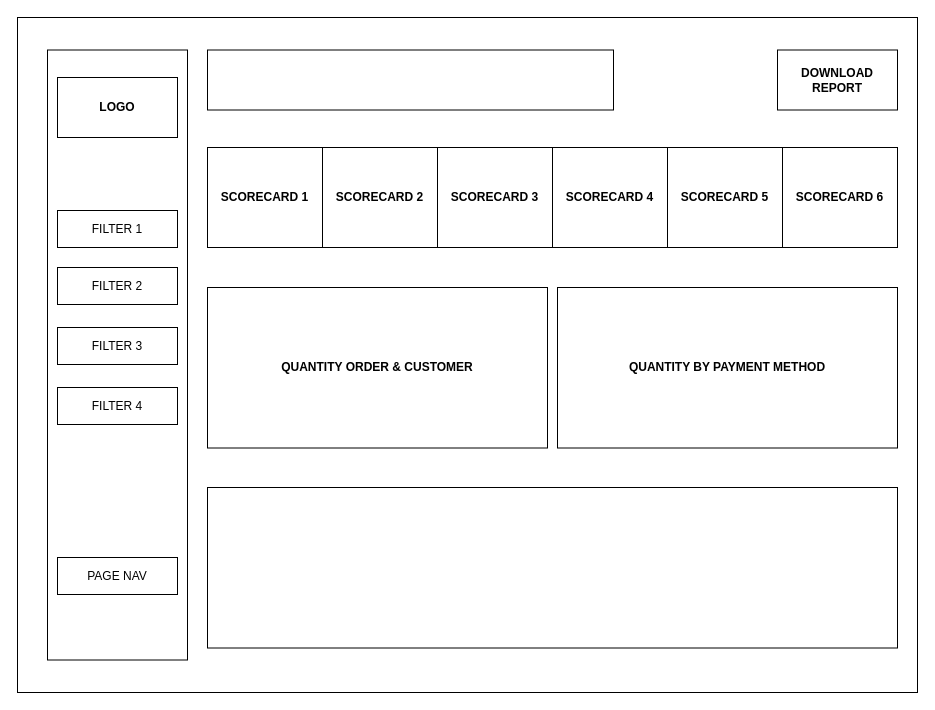
Image size: 935x710. Some labels were removed from this diagram. The shapes that lost their labels are listed below. From the top down, each one's centre as x and y in pixels, then its label:
At pixel 410 79: "DASHBOARD TITLE AND DESCRIPTIONS".
At pixel 552 567: "TABLE PRODUCT SUMMARY".
